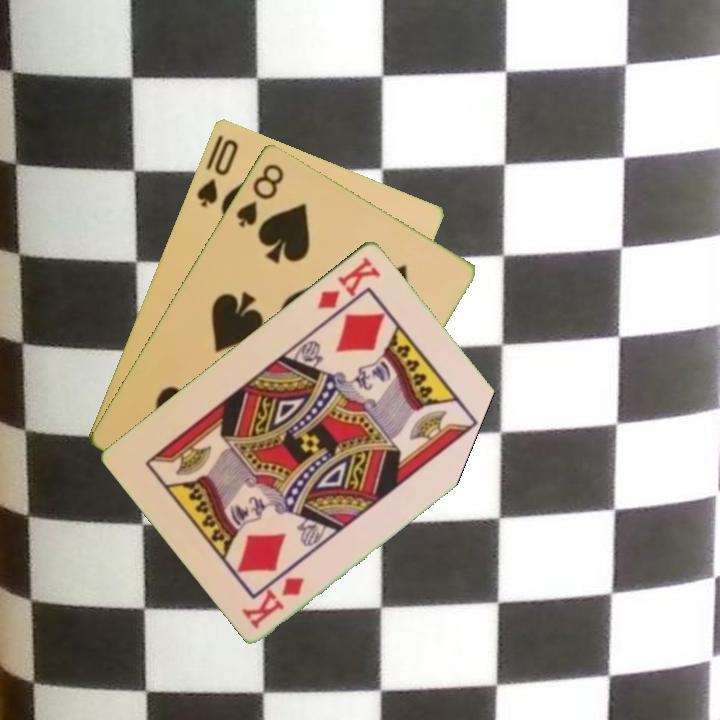10s: (192, 135, 241, 210)
8s: (232, 159, 287, 230)
Kd: (313, 252, 383, 312), (239, 572, 307, 632)
